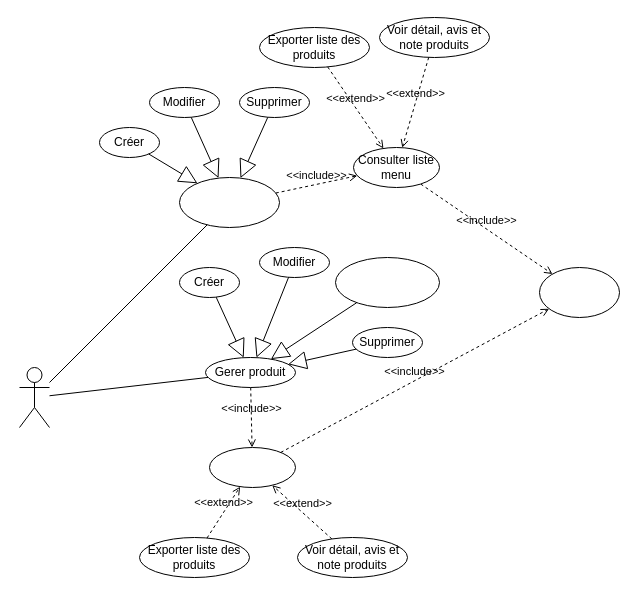
The diagram is 637 pixels wide and 595 high, and some of its shapes have lost their labels. The shapes that lost their labels are listed below. From the top down, each one's box as (x1, y1, x2, y2) in pixels, then its label:
(178, 176, 280, 228): Gerer menu
(334, 256, 440, 308): Attribuer/Retirer promotion
(538, 266, 620, 318): Se déconnecter
(18, 366, 50, 428): Admin
(208, 446, 296, 488): Consulter liste produit
